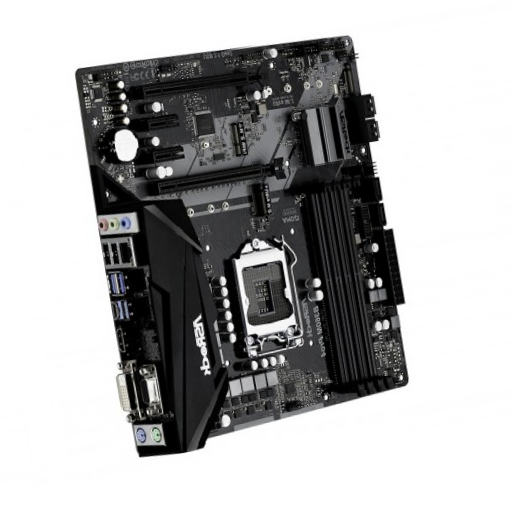CPU: (227, 238, 303, 367)
GPU: (145, 157, 286, 197), (130, 66, 282, 99)
MOTHERBOARD: (76, 34, 411, 459)
RAM: (294, 182, 394, 393)
SSD: (251, 182, 273, 216), (230, 121, 247, 156)
